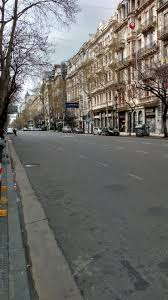strada: (2, 140, 168, 296)
